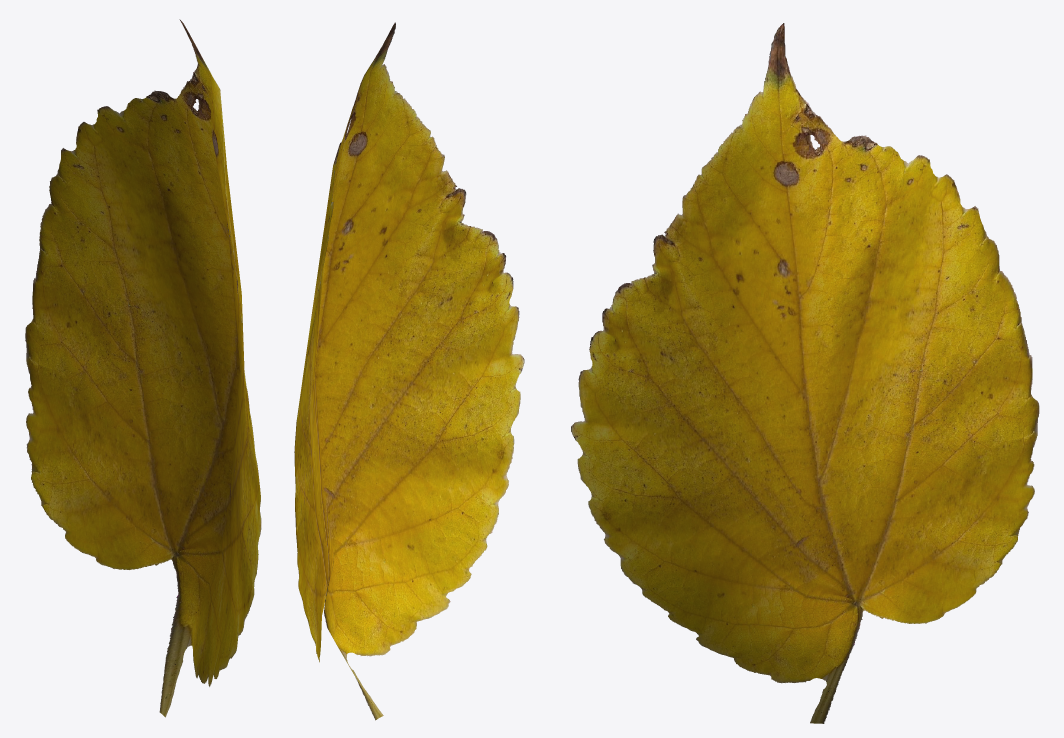
File: LEAF2.fbx
3 views of the same model, side by side, from view 1: azimuth 30°, elevation 25°; view 2: azimuth 150°, elevation 25°; view 3: azimuth 270°, elevation 25° (orthographic). The views are drawn at different scales.
Parts seen in each view (by area): view 1: FALL20.001; view 2: FALL20.001; view 3: FALL20.001.
Part boxes in pixels (x1,y1,x2,y2): FALL20.001: (25, 19, 261, 717); FALL20.001: (294, 22, 524, 720); FALL20.001: (571, 23, 1039, 723).
Bounding box in the file's own units: 15.77 × 100 × 62.25.
